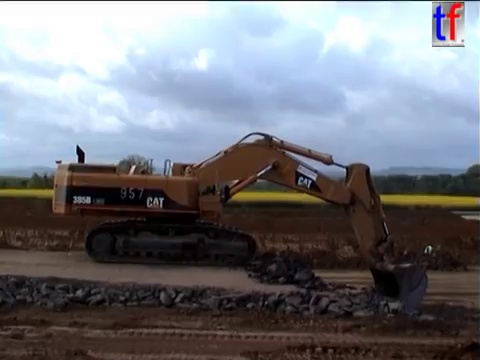excavator: (49, 130, 431, 322)
